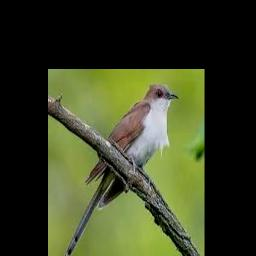Cuckoo: (63, 84, 178, 256)
